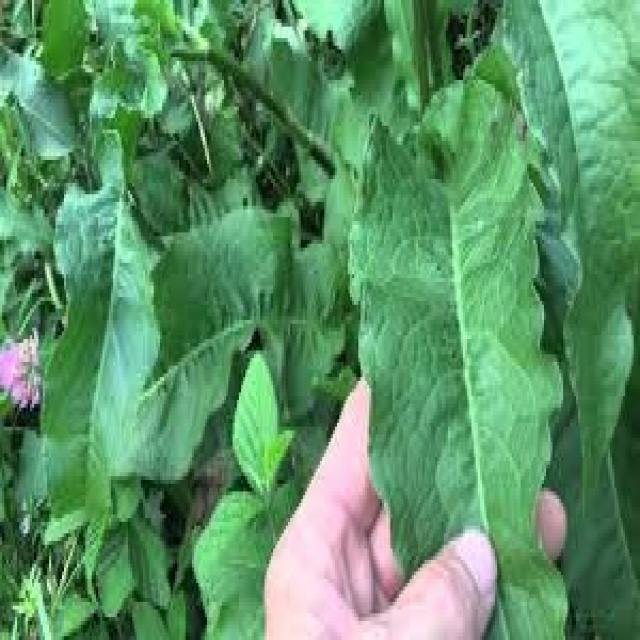organic waste: (305, 0, 640, 438), (17, 84, 337, 461)
